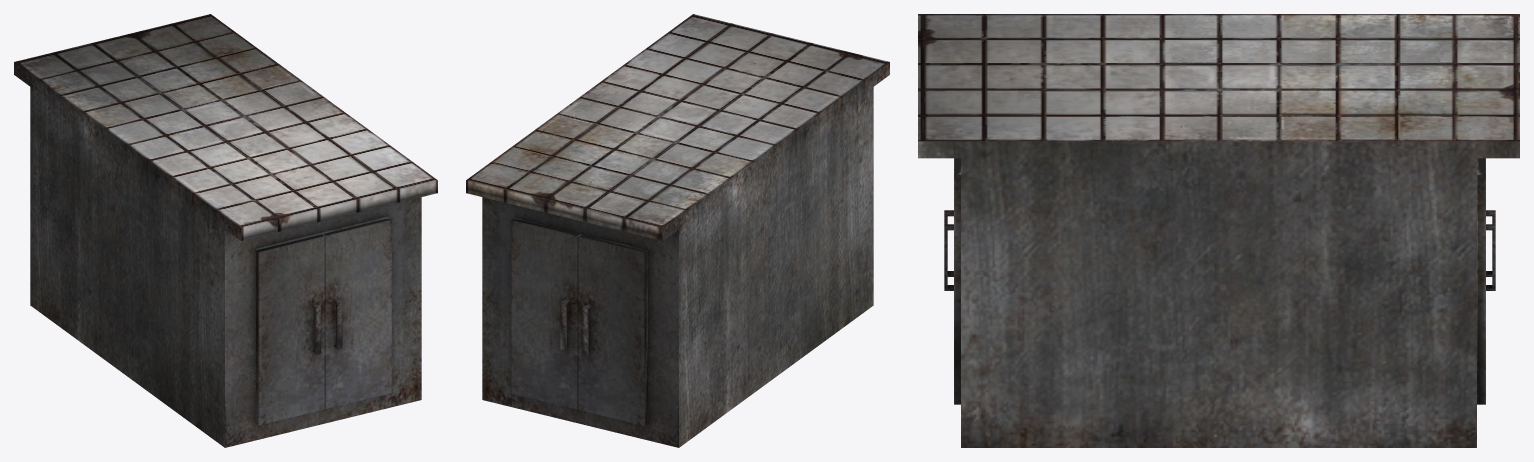
Rendered from Lab Cupboard.obj.
The picture shows the model from 3 angles, left to right: view 1: azimuth 30°, elevation 25°; view 2: azimuth 150°, elevation 25°; view 3: azimuth 270°, elevation 25°; orthographic projection. The views are drawn at different scales.
Visible parts, largest first — view 1: ABY_LabCupboard; view 2: ABY_LabCupboard; view 3: ABY_LabCupboard.
Boxes of the visible parts, x1,y1,x2,y2 form: ABY_LabCupboard: (14, 14, 437, 447); ABY_LabCupboard: (466, 14, 889, 447); ABY_LabCupboard: (918, 14, 1519, 447).
Size of the model in its own units: 64 by 72 by 128.
1 material, 1 textured.
